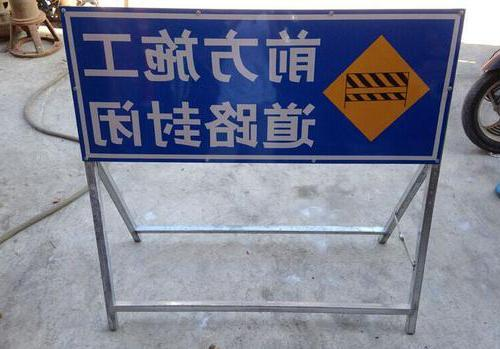sign: (61, 9, 461, 169)
